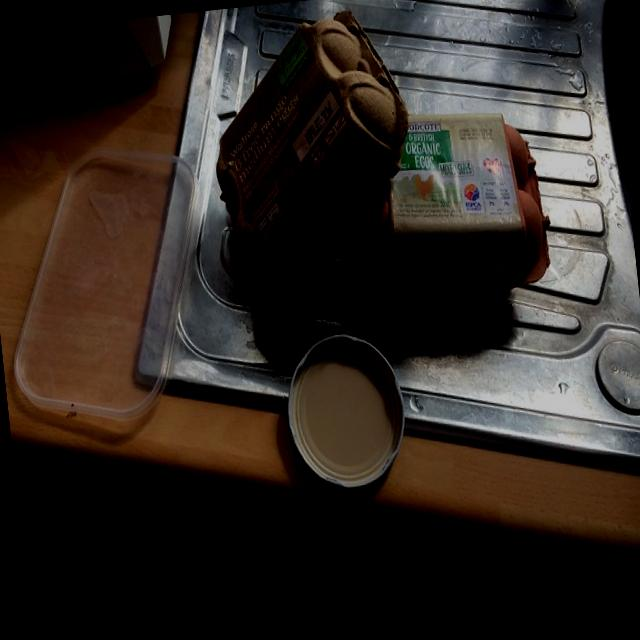Recycle: (281, 330, 409, 496)
Trash: (198, 0, 558, 326)
